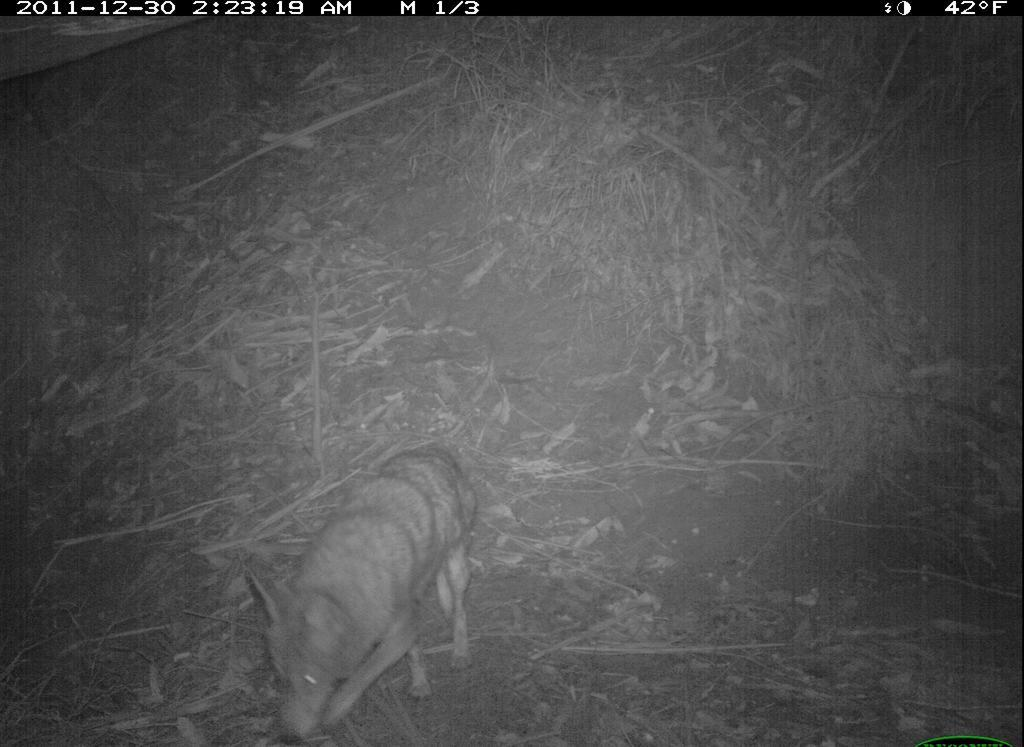coyote: (225, 438, 500, 747)
